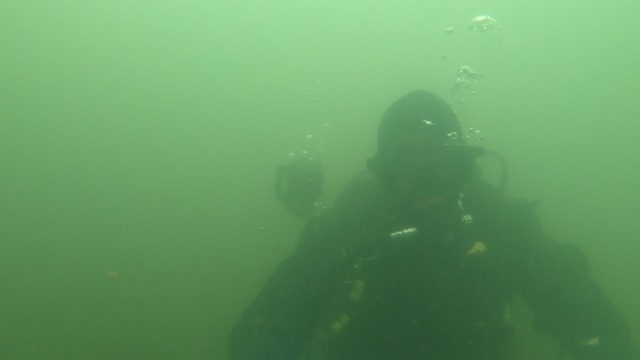Diver: (211, 87, 633, 357)
Head: (365, 93, 493, 242)
